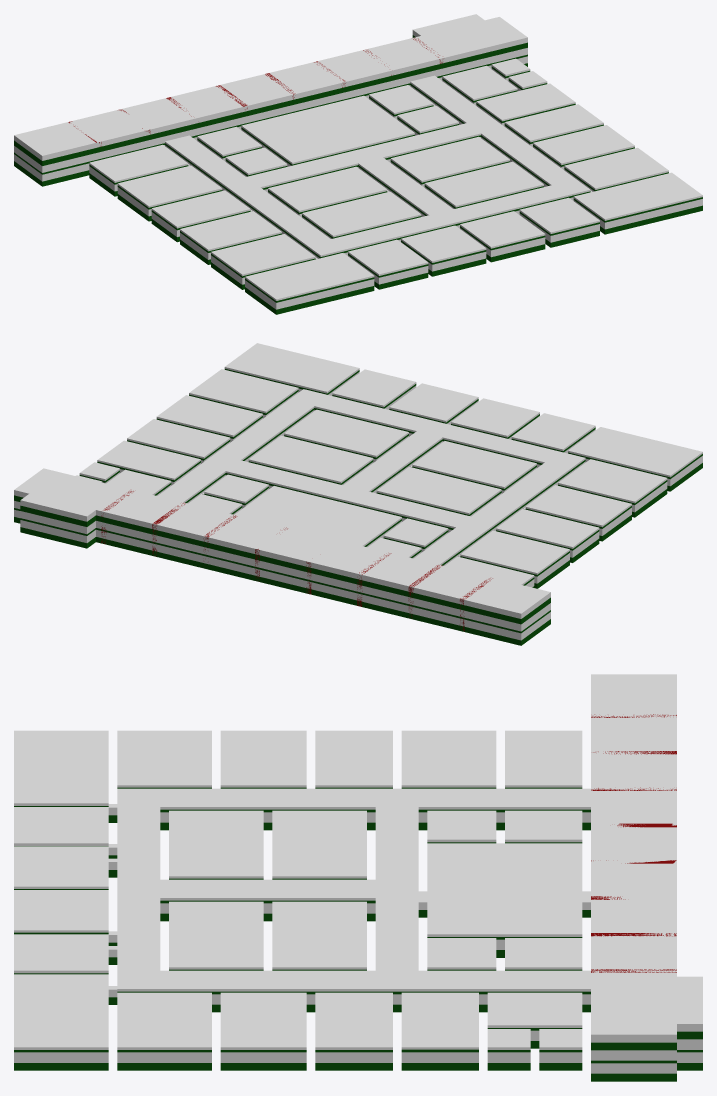
File: School.fbx
3 views of the same model, one above another, from view 1: azimuth 30°, elevation 25°; view 2: azimuth 150°, elevation 25°; view 3: azimuth 270°, elevation 25° (orthographic). The views are drawn at different scales.
Parts seen in each view (by area): view 1: Cube, Cube.001; view 2: Cube, Cube.001; view 3: Cube, Cube.001.
Part boxes in pixels (x1,y1,x2,y2): Cube: [14, 14, 702, 314]; Cube.001: [68, 38, 442, 146]; Cube: [14, 343, 702, 645]; Cube.001: [101, 491, 492, 631]; Cube: [14, 674, 702, 1081]; Cube.001: [591, 714, 676, 972].
Size of the model in its own units: 9900 by 600 by 8000.
